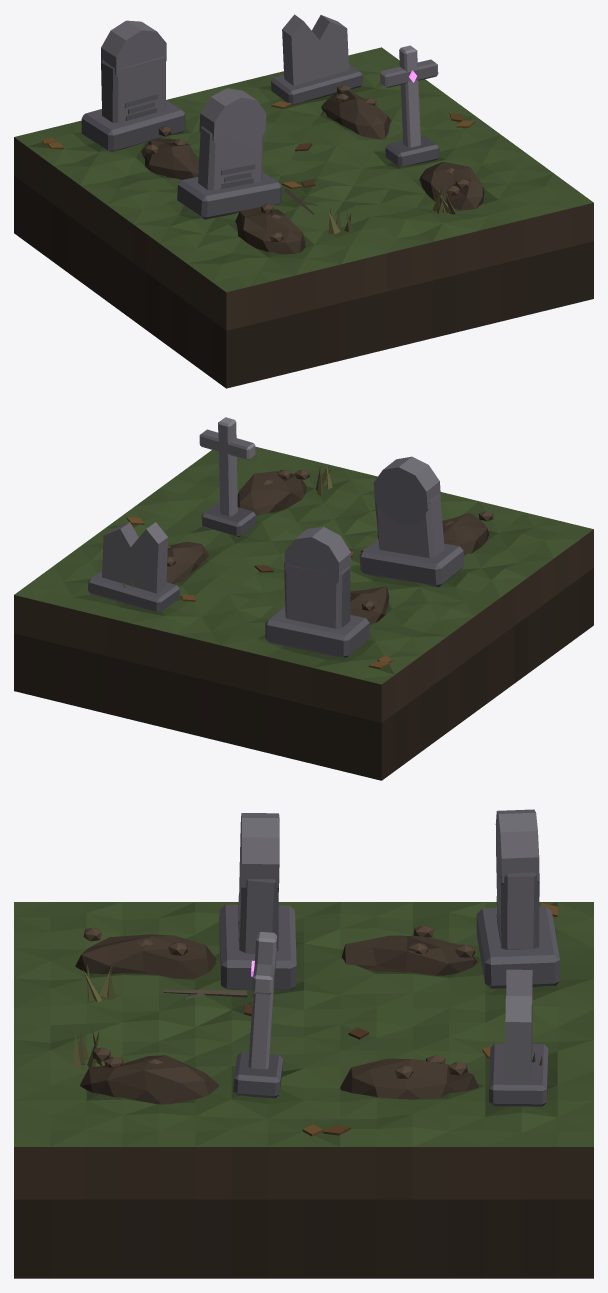
Rendered from haunt_graves_1.glb.
The picture shows the model from 3 angles, top to bottom: view 1: azimuth 30°, elevation 25°; view 2: azimuth 150°, elevation 25°; view 3: azimuth 270°, elevation 25°; orthographic projection. The views are drawn at different scales.
Parts seen in each view (by area): view 1: HauntGraves1; view 2: HauntGraves1; view 3: HauntGraves1.
Boxes of the visible parts, x1,y1,x2,y2 form: HauntGraves1: (14,14,593,388); HauntGraves1: (14,417,593,780); HauntGraves1: (14,809,593,1278).
Size of the model in its own units: 2 by 1.07 by 2.
